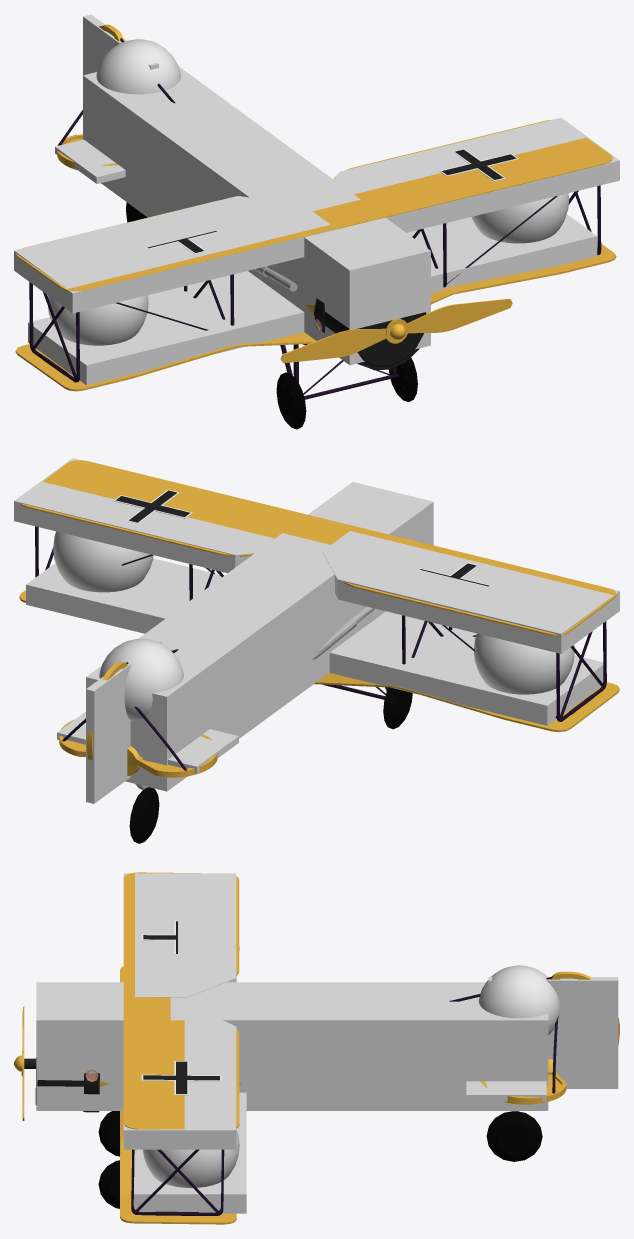
File: airplane.glb
3 views of the same model, one above another, from view 1: azimuth 30°, elevation 25°; view 2: azimuth 150°, elevation 25°; view 3: azimuth 270°, elevation 25° (orthographic). The views are drawn at different scales.
Parts seen in each view (by area): view 1: Cube.008, body, Cube.001, Cube.014, Cube.002, Cube.013, rotor, Sphere.004, Sphere.002, Sphere.003, supports.010, Cube.012 (+5 smaller); view 2: Cube.008, Cube.001, body, Cube.014, Cube.002, Cube.013, Cube.010, Sphere.002, Sphere.003, Sphere.004, supports.010, Cube.012 (+3 smaller); view 3: Cube.008, body, Cube.001, Cube.002, Cube.010, Cube.013, Sphere.004, Sphere.003, wheel_fl.002, Cube.011, supports.006, wheel_fl.003 (+1 smaller).
Boxes of the visible parts, box(x1,y1,x2,y2) form: Cube.008: box(83, 66, 430, 365); body: box(15, 24, 616, 391); Cube.001: box(14, 196, 336, 313); Cube.014: box(28, 271, 304, 385); Cube.002: box(334, 117, 619, 232); Cube.013: box(406, 214, 597, 293); rotor: box(280, 298, 512, 363); Sphere.004: box(96, 39, 180, 94); Sphere.002: box(48, 295, 148, 345); Sphere.003: box(471, 193, 569, 243); supports.010: box(29, 274, 234, 382); Cube.012: box(55, 139, 125, 183); Cube.008: box(86, 482, 433, 791); Cube.001: box(322, 531, 619, 653); body: box(19, 460, 619, 789); Cube.014: box(329, 611, 603, 725); Cube.002: box(14, 458, 274, 573); Cube.013: box(26, 558, 221, 633); Cube.010: box(86, 639, 161, 803); Sphere.002: box(474, 633, 574, 694); Sphere.003: box(53, 531, 153, 592); Sphere.004: box(99, 638, 183, 720); supports.010: box(402, 615, 606, 721); Cube.012: box(168, 729, 238, 773); Cube.008: box(36, 982, 548, 1110); body: box(24, 872, 619, 1224); Cube.001: box(123, 873, 236, 997); Cube.002: box(123, 1020, 236, 1149); Cube.010: box(488, 977, 618, 1088); Cube.013: box(134, 1092, 246, 1213); Sphere.004: box(478, 965, 560, 1035); Sphere.003: box(143, 1129, 239, 1187); wheel_fl.002: box(486, 1111, 542, 1161); Cube.011: box(466, 1081, 546, 1101); supports.006: box(131, 1149, 224, 1215); wheel_fl.003: box(98, 1160, 119, 1208).
Size of the model in its own units: 3.97 by 1.53 by 3.95.
Materials: 5 (4 with a texture image).
